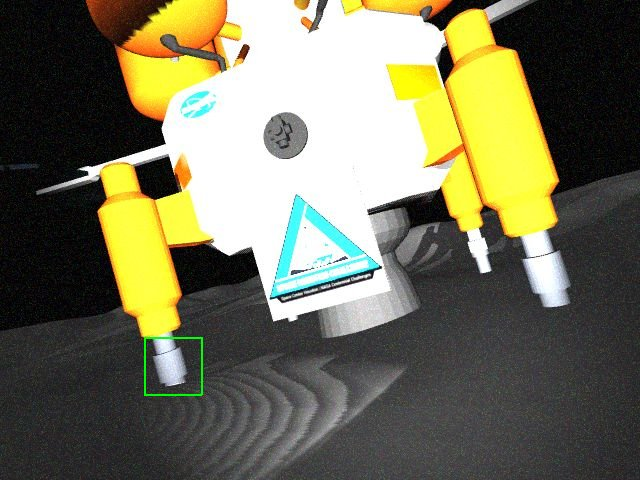basemarker: (269, 194, 381, 304)
